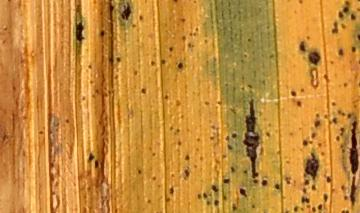tarspot: (243, 97, 260, 178), (350, 118, 360, 174), (306, 152, 319, 179), (350, 175, 360, 205), (74, 20, 84, 42), (308, 49, 321, 64), (121, 4, 132, 20), (331, 20, 338, 35), (86, 152, 95, 163), (238, 187, 247, 198), (300, 138, 309, 148), (300, 195, 310, 204), (299, 41, 307, 52), (92, 157, 100, 168), (98, 28, 107, 37), (222, 176, 231, 185), (183, 167, 191, 177), (176, 61, 184, 70), (289, 89, 298, 97), (322, 190, 328, 202), (301, 183, 307, 195), (337, 8, 344, 18), (349, 12, 357, 20), (324, 175, 332, 183), (337, 48, 344, 57), (343, 5, 350, 14), (340, 22, 347, 31), (295, 98, 302, 107), (314, 119, 321, 128), (212, 184, 219, 193), (285, 176, 292, 185), (252, 177, 259, 185), (166, 45, 174, 52), (160, 58, 167, 66), (183, 153, 190, 161), (213, 199, 220, 207), (339, 126, 346, 134), (145, 197, 152, 205), (169, 171, 176, 179), (180, 35, 188, 42), (204, 99, 211, 107), (232, 202, 237, 213), (202, 190, 208, 199), (330, 98, 336, 107), (242, 50, 248, 59), (261, 179, 268, 186), (149, 59, 156, 66), (195, 192, 202, 199), (303, 179, 310, 186), (336, 108, 343, 115), (167, 124, 174, 131), (188, 31, 195, 38), (221, 152, 228, 159), (115, 55, 121, 63), (274, 182, 280, 190), (309, 132, 317, 138), (230, 165, 236, 173), (317, 202, 323, 210), (311, 205, 317, 213), (334, 134, 340, 142), (38, 128, 44, 136), (247, 81, 253, 89), (243, 167, 249, 175), (355, 32, 360, 41), (311, 183, 316, 192), (64, 118, 71, 124), (226, 144, 233, 150), (231, 131, 237, 138), (137, 15, 144, 21), (332, 117, 338, 124), (314, 112, 321, 118), (346, 112, 352, 119), (342, 80, 348, 87), (151, 150, 157, 157), (80, 95, 87, 101), (180, 16, 186, 23), (317, 141, 323, 148), (329, 59, 336, 65), (131, 22, 137, 29), (203, 37, 209, 44), (305, 202, 311, 209), (351, 45, 356, 53), (169, 186, 174, 194), (87, 63, 93, 69), (323, 113, 329, 119), (151, 175, 157, 181), (208, 134, 214, 140), (246, 37, 252, 43), (299, 206, 305, 212), (141, 87, 146, 94), (137, 168, 142, 175), (293, 206, 298, 213), (265, 131, 270, 138), (323, 73, 328, 80), (342, 209, 350, 213), (195, 24, 199, 32), (342, 147, 346, 155), (344, 1, 350, 6), (297, 1, 303, 6), (164, 94, 169, 100), (343, 195, 348, 201), (340, 184, 345, 190), (251, 203, 256, 209), (177, 141, 182, 147), (176, 127, 181, 133), (241, 85, 245, 92), (206, 200, 211, 205), (300, 88, 305, 93), (223, 196, 228, 201), (188, 43, 192, 48), (309, 140, 314, 144), (284, 210, 289, 213), (173, 1, 178, 2)
